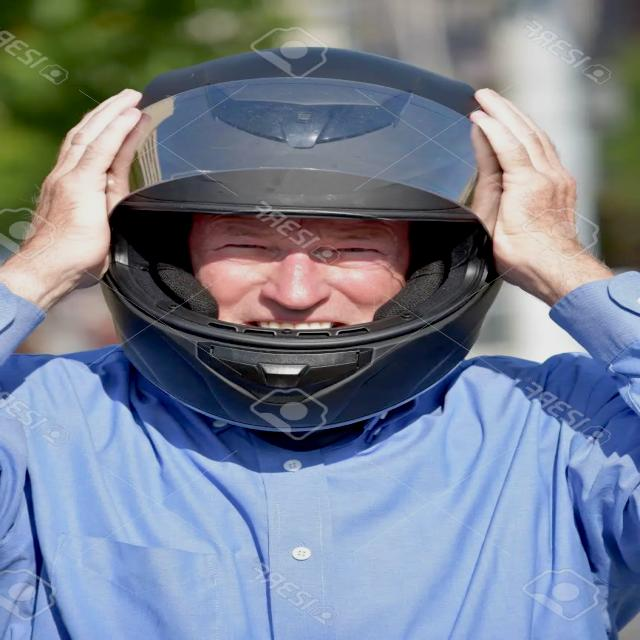helmet: (106, 49, 500, 430)
